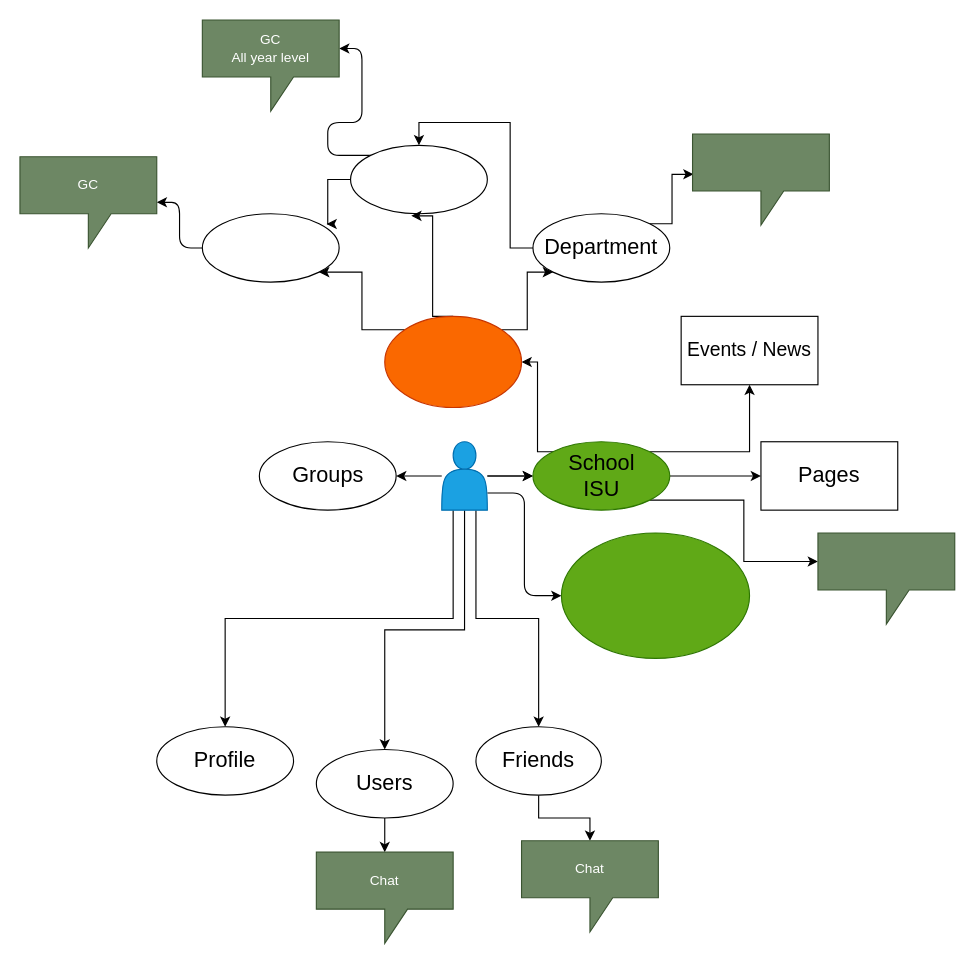
Some shapes in this 975 by 963 pixel diagram are drawn without their labels. The shapes that lost their labels are listed below. From the top down, each one's centre as x and y in pixels, then its label:
At (x=418, y=179): "Course".
At (x=760, y=179): "GC Everyone from the department".
At (x=270, y=247): "Subjects".
At (x=453, y=361): "Authenticate".
At (x=655, y=595): "Can access other schools if set to Public and can get posts if followed".
At (x=886, y=578): "Public Chat".
